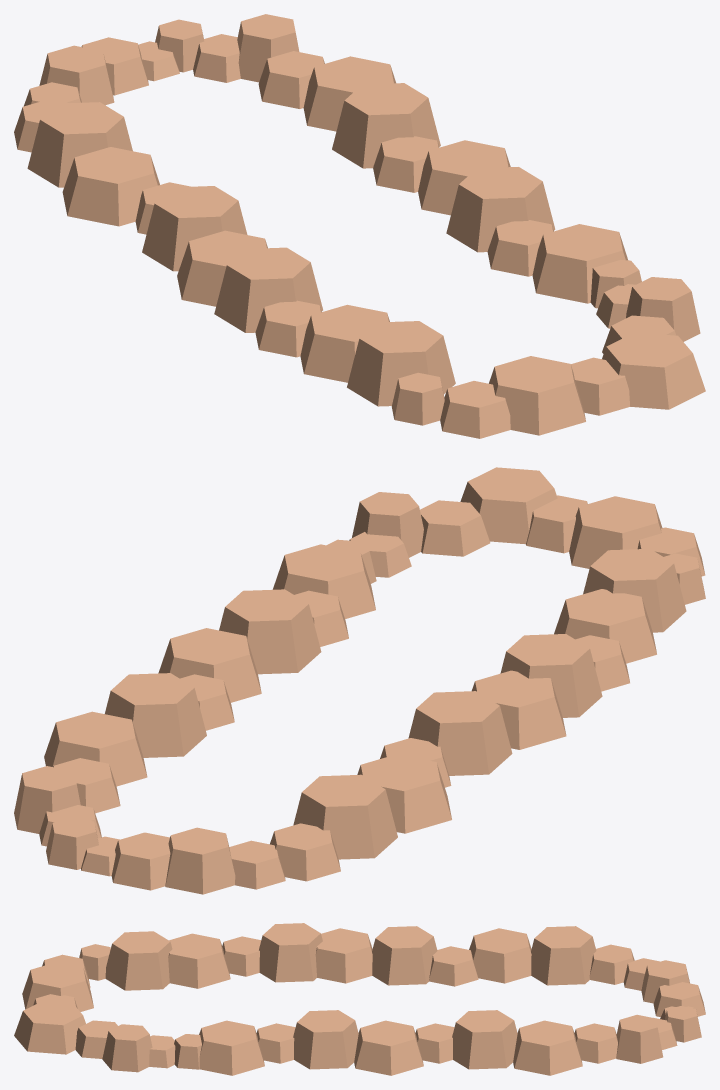
Rendered from graveBorder.glb.
3 renders of one model, top to bottom at view 1: azimuth 30°, elevation 25°; view 2: azimuth 150°, elevation 25°; view 3: azimuth 270°, elevation 25°, orthographic. The views are drawn at different scales.
Visible parts, largest first — view 1: graveBorder; view 2: graveBorder; view 3: graveBorder.
Part boxes in pixels (<box>): graveBorder: <box>14,14,705,438</box>; graveBorder: <box>14,467,705,894</box>; graveBorder: <box>14,923,705,1075</box>.
Bounding box in the file's own units: 0.5243 × 0.0655 × 1.22.
